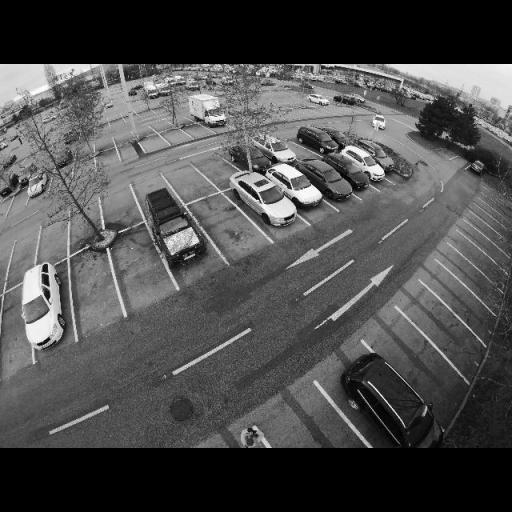busy: (336, 349, 440, 448), (13, 258, 72, 350), (149, 189, 206, 267), (232, 172, 294, 226), (271, 164, 321, 208), (303, 158, 348, 198), (329, 152, 367, 190), (344, 146, 381, 182), (232, 143, 270, 171), (254, 134, 294, 160), (300, 128, 338, 152), (194, 105, 228, 127), (362, 139, 390, 165), (52, 147, 72, 168), (327, 130, 351, 146), (338, 92, 361, 106), (308, 94, 330, 106), (186, 80, 201, 91)
free: (378, 336, 444, 374), (276, 408, 329, 448), (77, 276, 115, 313), (418, 313, 458, 346), (100, 192, 137, 227), (121, 254, 156, 288), (71, 200, 97, 242), (206, 208, 242, 235), (437, 282, 470, 307), (16, 241, 42, 266), (456, 269, 485, 288), (141, 133, 166, 152), (40, 232, 62, 252), (178, 174, 203, 191), (164, 123, 182, 146), (120, 143, 142, 158), (98, 149, 116, 166), (466, 248, 482, 266), (96, 132, 112, 150), (468, 233, 488, 247), (207, 164, 228, 177), (114, 132, 131, 144), (109, 119, 125, 131), (186, 126, 204, 136), (152, 122, 170, 132), (133, 126, 149, 136)
